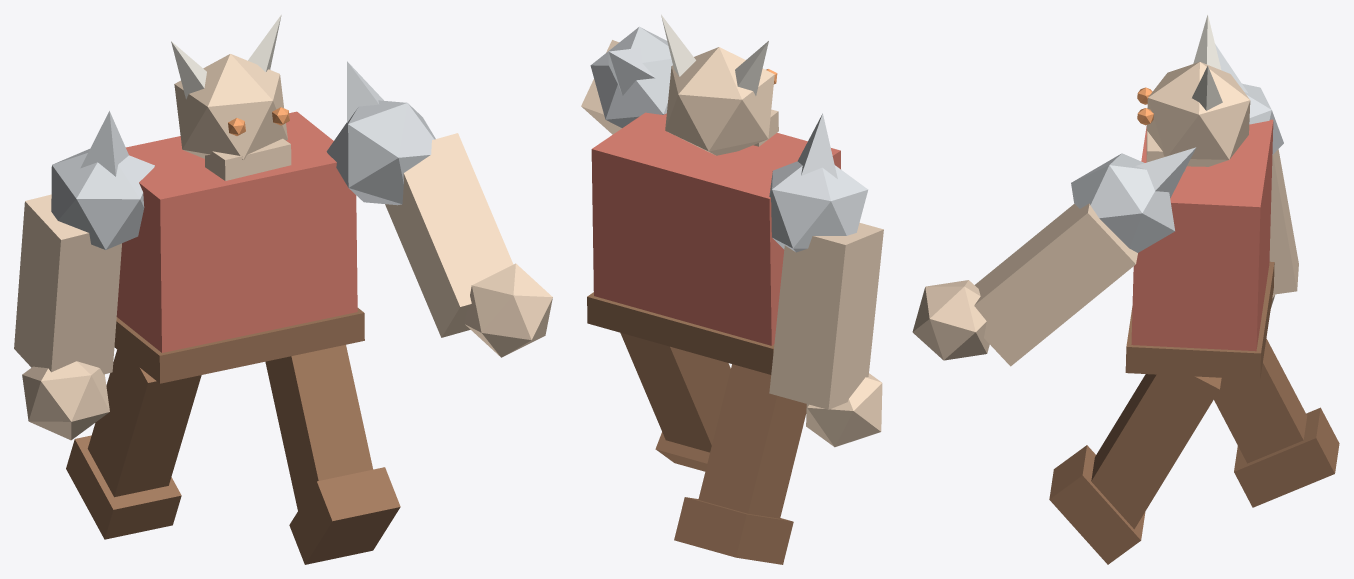
The model's file is npcpose_brute_walk_09.glb.
The picture shows the model from 3 angles, left to right: view 1: azimuth 30°, elevation 25°; view 2: azimuth 150°, elevation 25°; view 3: azimuth 270°, elevation 25°; orthographic projection. The views are drawn at different scales.
Visible parts, largest first — view 1: npcpose; view 2: npcpose; view 3: npcpose.
Boxes of the visible parts, bbox=[...] form: npcpose: bbox=[14, 14, 552, 564]; npcpose: bbox=[581, 14, 883, 564]; npcpose: bbox=[912, 14, 1339, 564].
Bounding box in the file's own units: 1.42 × 1.85 × 1.49.
